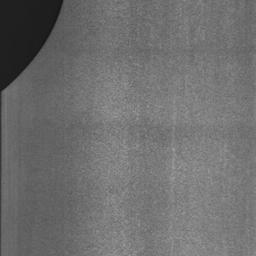Crescent gap: (0, 0, 64, 91)
